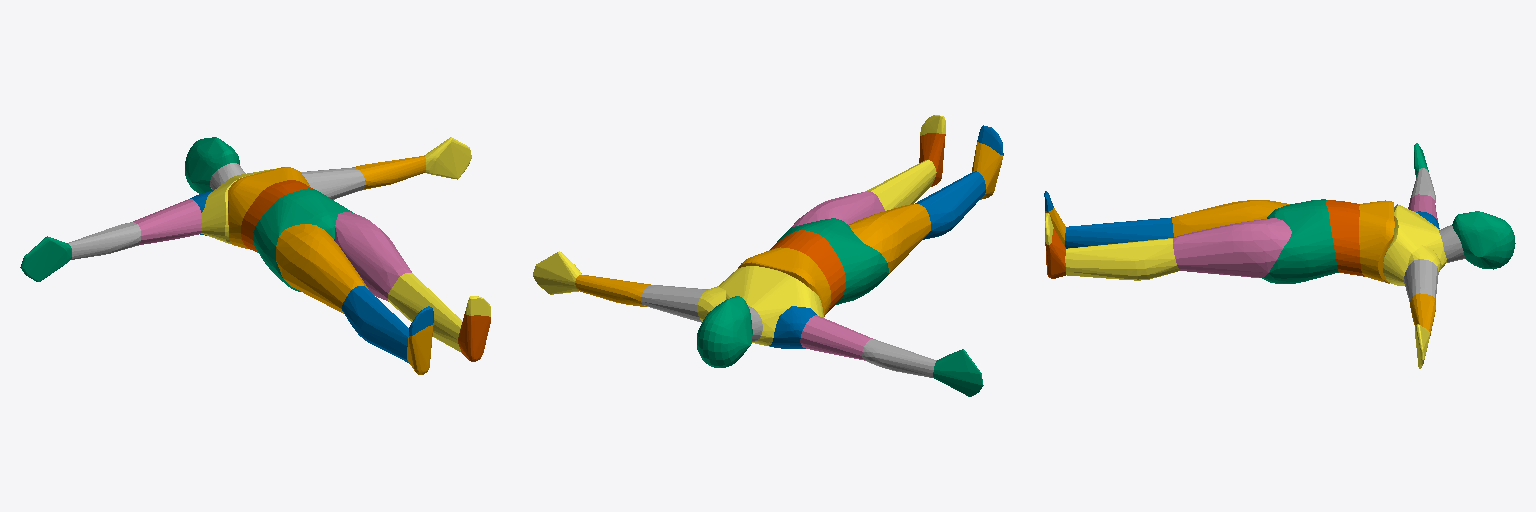
--- Render facts (derived) ---
3 views of the same robot in one strip: view 1: azimuth 30°, elevation 25°; view 2: azimuth 150°, elevation 25°; view 3: azimuth 270°, elevation 25° (orthographic).
Model Humanoid with 59 links and 58 joints (51 revolute, 7 fixed), rooted at root, posed all joints at 0.
Visible links, largest first — view 1: right_UpLeg, left_UpLeg, hip_rx, right_leg_rx, left_leg_rx, spine1_rx, right_arm, head, right_fore_arm_rx, right_hand, left_fore_arm_rx, left_hand (+5 smaller); view 2: spine2_rx, hip_rx, right_UpLeg, head, right_leg_rx, spine1_rx, spine_rx, right_arm, left_leg_rx, left_UpLeg, right_fore_arm_rx, left_arm (+7 smaller); view 3: left_UpLeg, hip_rx, left_leg_rx, head, spine2_rx, spine1_rx, right_leg_rx, right_UpLeg, spine_rx, left_arm, left_fore_arm_rx, left_foot (+1 smaller).
Boxes of the visible links, bbox=[...] form: right_UpLeg: bbox=[276, 224, 368, 313]; left_UpLeg: bbox=[334, 212, 411, 301]; hip_rx: bbox=[253, 188, 354, 291]; right_leg_rx: bbox=[342, 286, 409, 363]; left_leg_rx: bbox=[387, 273, 462, 352]; spine1_rx: bbox=[228, 167, 309, 248]; right_arm: bbox=[133, 199, 201, 244]; head: bbox=[185, 137, 239, 193]; right_fore_arm_rx: bbox=[68, 222, 140, 259]; right_hand: bbox=[20, 236, 71, 281]; left_fore_arm_rx: bbox=[353, 156, 425, 190]; left_hand: bbox=[424, 137, 471, 179]; spine2_rx: bbox=[719, 266, 823, 346]; hip_rx: bbox=[775, 218, 888, 304]; right_UpLeg: bbox=[849, 204, 930, 274]; head: bbox=[697, 296, 752, 367]; right_leg_rx: bbox=[915, 171, 985, 239]; spine1_rx: bbox=[738, 247, 830, 316]; spine_rx: bbox=[770, 230, 845, 312]; right_arm: bbox=[800, 315, 872, 360]; left_leg_rx: bbox=[865, 160, 936, 210]; left_UpLeg: bbox=[792, 191, 884, 226]; right_fore_arm_rx: bbox=[862, 339, 936, 377]; left_arm: bbox=[641, 285, 707, 322]; left_UpLeg: bbox=[1173, 218, 1291, 277]; hip_rx: bbox=[1262, 199, 1338, 283]; left_leg_rx: bbox=[1065, 238, 1179, 280]; head: bbox=[1452, 211, 1515, 269]; spine2_rx: bbox=[1383, 204, 1446, 285]; spine1_rx: bbox=[1359, 200, 1394, 283]; right_leg_rx: bbox=[1065, 217, 1173, 248]; right_UpLeg: bbox=[1172, 200, 1289, 236]; spine_rx: bbox=[1326, 200, 1364, 276]; left_arm: bbox=[1404, 259, 1438, 301]; left_fore_arm_rx: bbox=[1410, 293, 1435, 335]; left_foot: bbox=[1045, 229, 1065, 278].
Bounding box of the posed robot: 1.75 × 1.72 × 0.2905 m (x, y, z).
22 mesh visuals loaded from 22 distinct referenced files (22 OBJ).

robot.urdf — Humanoid:
<?xml version="1.0"?>
<robot name="Humanoid">
    <link name="root">
		
	</link>

    <link name="assist_link1">
        
    </link>

    <joint name="0" type="fixed">
        <origin xyz="0 0 0" rpy="0.0 0.0 0.0"/>
        <parent link="root"/>
        <child link="assist_link1"/>
        <axis xyz="0.0 0.0 0.0"/>
        <limit lower="0.0" upper="0.0" effort="0.0" velocity="0.0"/>
    </joint>

    <joint name="assist_jointA1" type="fixed">
        <origin xyz="0.0 0.0 0.0" rpy="0.0 0.0 0.0"/>
        <parent link="assist_link1"/>
        <child link="hip_rx"/>
        <axis xyz="0.0 0.0 0.0"/>
        <limit lower="0.0" upper="0.0" effort="0.0" velocity="0.0"/>
    </joint>

    <link name="hip_rx">
        <inertial>
            <origin xyz="0.00057561 -0.00681268 -0.01696218" rpy="0.0 0.0 0.0"/>
            <mass value="0.0"/>
            <inertia ixx="0.0" ixy="0.0" ixz="0.0" iyy="0.0" iyz="0.0" izz="0.0"/>
        </inertial>
        <visual>
            <origin xyz="0.00057561 -0.00681268 -0.01696218" rpy="0.0 0.0 0.0"/>
            <geometry>
                <mesh filename="package://Humanoid/meshes/body_parts_hips.obj" />
            </geometry>
        </visual>
        <collision>
            <origin xyz="0.00057561 -0.00681268 -0.01696218" rpy="0.0 0.0 0.0"/>
            <geometry>
                <mesh filename="package://Humanoid/meshes/body_parts_hips.obj" />
            </geometry>
        </collision>
    </link>

    <joint name="assist_jointA2" type="fixed">
        <origin xyz="0.0 0.0 0.0" rpy="0.0 0.0 0.0"/>
        <parent link="assist_link1"/>
        <child link="temp1_rx"/>
        <axis xyz="0.0 0.0 0.0"/>
        <limit lower="0.0" upper="0.0" effort="0.0" velocity="0.0"/>
    </joint>

    <joint name="assist_jointA3" type="fixed">
        <origin xyz="0.0 0.0 0.0" rpy="0.0 0.0 0.0"/>
        <parent link="assist_link1"/>
        <child link="temp2_rx"/>
    </joint>

    <link name="temp2_rx">
        
    </link>

    <joint name="2_rx" type="revolute">
        <origin xyz="0.06951974 -0.09140623 -0.00681533" rpy="0.0 0.0 0.0"/>
        <parent link="temp2_rx"/>
        <child link="temp2_ry"/>
        <axis xyz="1.0 0.0 0.0"/>
        <limit lower="-2.5" upper="1.4" effort="1000.0" velocity="0.5"/>
    </joint>

    <link name="temp2_ry">
        
    </link>

    <joint name="2_ry" type="revolute">
        <origin xyz="0 0 0" rpy="0.0 0.0 0.0"/>
        <parent link="temp2_ry"/>
        <child link="temp2_rz"/>
        <axis xyz="0.0 1.0 0.0"/>
        <limit lower="-2.5" upper="1.4" effort="1000.0" velocity="0.5"/>
    </joint>

    <link name="temp2_rz">
        
    </link>

    <joint name="2_rz" type="revolute">
        <origin xyz="0 0 0" rpy="0.0 0.0 0.0"/>
        <parent link="temp2_rz"/>
        <child link="left_UpLeg"/>
        <axis xyz="0.0 0.0 1.0"/>
        <limit lower="-2.5" upper="1.4" effort="1000.0" velocity="0.5"/>
    </joint>

    <link name="left_UpLeg">
        <inertial>
            <origin xyz="0.02136212 -0.15149257 0.00267958" rpy="0.0 0.0 0.0"/>
            <mass value="0.0"/>
            <inertia ixx="0.0" ixy="0.0" ixz="0.0" iyy="0.0" iyz="0.0" izz="0.0"/>
        </inertial>
        <visual>
            <origin xyz="0.02136212  -0.15149257  0.00267958" rpy="0.0 0.0 0.0"/>
            <geometry>
                <mesh filename="package://Humanoid/meshes/body_parts_leftUpLeg.obj" />
            </geometry>
        </visual>
        <collision>
            <origin xyz="0.02136212 -0.15149257 0.00267958" rpy="0.0 0.0 0.0"/>
            <geometry>
                <mesh filename="package://Humanoid/meshes/body_parts_leftUpLeg.obj" />
            </geometry>
        </collision>
    </link>

    <link name="temp1_rx">
        
    </link>

    <link name="right_UpLeg">
        <inertial>
            <origin xyz="-0.02252603 -0.15352734 -0.00307775" rpy="0.0 0.0 0.0"/>
            <mass value="0.0"/>
            <inertia ixx="0.0" ixy="0.0" ixz="0.0" iyy="0.0" iyz="0.0" izz="0.0"/>
        </inertial>
        <visual>
            <origin xyz="-0.02252603 -0.15352734 -0.00307775" rpy="0.0 0.0 0.0"/>
            <geometry>
                <mesh filename="package://Humanoid/meshes/body_parts_rightUpLeg.obj" />
            </geometry>
        </visual>
        <collision>
            <origin xyz="-0.02252603 -0.15352734 -0.00307775" rpy="0.0 0.0 0.0"/>
            <geometry>
                <mesh filename="package://Humanoid/meshes/body_parts_rightUpLeg.obj" />
            </geometry>
        </collision>
    </link>

    <joint name="1_rx" type="revolute">
        <origin xyz="-0.06767048 -0.09052169 -0.00431982" rpy="0.0 0.0 0.0"/>
        <parent link="temp1_rx"/>
        <child link="temp1_ry"/>
        <axis xyz="1.0 0.0 0.0"/>
        <limit lower="-2.5" upper="1.4" effort="1000.0" velocity="0.5"/>
    </joint>

    <link name="temp1_ry">
        
    </link>

    <joint name="1_ry" type="revolute">
        <origin xyz="0 0 0" rpy="0.0 0.0 0.0"/>
        <parent link="temp1_ry"/>
        <child link="temp1_rz"/>
        <axis xyz="0.0 1.0 0.0"/>
        <limit lower="-2.5" upper="1.4" effort="1000.0" velocity="0.5"/>
    </joint>

    <link name="temp1_rz">
        
    </link>

    <joint name="1_rz" type="revolute">
        <origin xyz="0 0 0" rpy="0.0 0.0 0.0"/>
        <parent link="temp1_rz"/>
        <child link="right_UpLeg"/>
        <axis xyz="0.0 0.0 1.0"/>
        <limit lower="-2.5" upper="1.4" effort="1000.0" velocity="0.5"/>
    </joint>

    <link name="left_leg_rx">
        <inertial>
            <origin xyz="-0.00726278 -0.16462932 -0.0345356" rpy="0.0 0.0 0.0"/>
            <mass value="0.0"/>
            <inertia ixx="0.0" ixy="0.0" ixz="0.0" iyy="0.0" iyz="0.0" izz="0.0"/>
        </inertial>
        <visual>
            <origin xyz="-0.00726278 -0.16462932 -0.0345356" rpy="0.0 0.0 0.0"/>
            <geometry>
                <mesh filename="package://Humanoid/meshes/body_parts_leftLeg.obj" />
            </geometry>
        </visual>
        <collision>
            <origin xyz="-0.00726278 -0.16462932 -0.0345356" rpy="0.0 0.0 0.0"/>
            <geometry>
                <mesh filename="package://Humanoid/meshes/body_parts_leftLeg.obj" />
            </geometry>
        </collision>
    </link>

    <joint name="5" type="revolute">
        <origin xyz="0.03427655 -0.37519857 -0.00449581" rpy="0.0 0.0 0.0"/>
        <parent link="left_UpLeg"/>
        <child link="left_leg_rx"/>
        <axis xyz="1.0 0.0 0.0"/>
        <limit lower="-0.1" upper="2.5" effort="1000.0" velocity="0.5"/>
    </joint>

    <link name="right_leg_rx">
        <inertial>
            <origin xyz="0.01018021 -0.15886355 -0.03476419" rpy="0.0 0.0 0.0"/>
            <mass value="0.0"/>
            <inertia ixx="0.0" ixy="0.0" ixz="0.0" iyy="0.0" iyz="0.0" izz="0.0"/>
        </inertial>
        <visual>
            <origin xyz="0.01018021 -0.15886355 -0.03476419" rpy="0.0 0.0 0.0"/>
            <geometry>
                <mesh filename="package://Humanoid/meshes/body_parts_rightLeg.obj" />
            </geometry>
        </visual>
        <collision>
            <origin xyz="0.01018021 -0.15886355 -0.03476419" rpy="0.0 0.0 0.0"/>
            <geometry>
                <mesh filename="package://Humanoid/meshes/body_parts_rightLeg.obj" />
            </geometry>
        </collision>
    </link>

    <joint name="4" type="revolute">
        <origin xyz="-0.03829005 -0.382569 -0.00885003" rpy="0.0 0.0 0.0"/>
        <parent link="right_UpLeg"/>
        <child link="right_leg_rx"/>
        <axis xyz="1.0 0.0 0.0"/>
        <limit lower="-0.1" upper="2.5" effort="1000.0" velocity="0.5"/>
    </joint>

    <link name="left_foot">
        <inertial>
            <origin xyz="0.01451171 -0.03682505 0.03742239" rpy="0.0 0.0 0.0"/>
            <mass value="0.0"/>
            <inertia ixx="0.0" ixy="0.0" ixz="0.0" iyy="0.0" iyz="0.0" izz="0.0"/>
        </inertial>
        <visual>
            <origin xyz="0.01451171 -0.03682505 0.03742239" rpy="0.0 0.0 0.0"/>
            <geometry>
                <mesh filename="package://Humanoid/meshes/body_parts_leftFoot.obj" />
            </geometry>
        </visual>
        <collision>
            <origin xyz="0.01451171 -0.03682505 0.03742239" rpy="0.0 0.0 0.0"/>
            <geometry>
                <mesh filename="package://Humanoid/meshes/body_parts_leftFoot.obj" />
            </geometry>
        </collision>
    </link>

    <joint name="8_rx" type="revolute">
        <origin xyz="-0.0135957 -0.39796048 -0.04369333" rpy="0.0 0.0 0.0"/>
        <parent link="left_leg_rx"/>
        <child link="left_leg_ry"/>
        <axis xyz="1.0 0.0 0.0"/>
        <limit lower="-0.4" upper="0.7" effort="1000.0" velocity="0.5"/>
    </joint>

    <link name="left_leg_ry">
        
    </link>

    <joint name="8_ry" type="revolute">
        <origin xyz="0 0 0" rpy="0.0 0.0 0.0"/>
        <parent link="left_leg_ry"/>
        <child link="left_leg_rz"/>
        <axis xyz="0.0 1.0 0.0"/>
        <limit lower="-0.4" upper="0.7" effort="1000.0" velocity="0.5"/>
    </joint>

    <link name="left_leg_rz">
        
    </link>

    <joint name="8_rz" type="revolute">
        <origin xyz="0 0 0" rpy="0.0 0.0 0.0"/>
        <parent link="left_leg_rz"/>
        <child link="left_foot"/>
        <axis xyz="0.0 0.0 1.0"/>
        <limit lower="-0.4" upper="0.7" effort="1000.0" velocity="0.5"/>
    </joint>

    <link name="right_foot">
        <inertial>
            <origin xyz="-0.01278681 -0.02989952 0.0397387" rpy="0.0 0.0 0.0"/>
            <mass value="0.0"/>
            <inertia ixx="0.0" ixy="0.0" ixz="0.0" iyy="0.0" iyz="0.0" izz="0.0"/>
        </inertial>
        <visual>
            <origin xyz="-0.01278681 -0.02989952 0.0397387" rpy="0.0 0.0 0.0"/>
            <geometry>
                <mesh filename="package://Humanoid/meshes/body_parts_rightFoot.obj" />
            </geometry>
        </visual>
        <collision>
            <origin xyz="-0.01278681 -0.02989952 0.0397387" rpy="0.0 0.0 0.0"/>
            <geometry>
                <mesh filename="package://Humanoid/meshes/body_parts_rightFoot.obj" />
            </geometry>
        </collision>
    </link>

    <joint name="7_rx" type="revolute">
        <origin xyz="0.01577377 -0.3984146 -0.0423118" rpy="0.0 0.0 0.0"/>
        <parent link="right_leg_rx"/>
        <child link="right_leg_ry"/>
        <axis xyz="1.0 0.0 0.0"/>
        <limit lower="-0.4" upper="0.7" effort="1000.0" velocity="0.5"/>
    </joint>

    <link name="right_leg_ry">
        
    </link>

    <joint name="7_ry" type="revolute">
        <origin xyz="0 0 0" rpy="0.0 0.0 0.0"/>
        <parent link="right_leg_ry"/>
        <child link="right_leg_rz"/>
        <axis xyz="0.0 1.0 0.0"/>
        <limit lower="-0.4" upper="0.7" effort="1000.0" velocity="0.5"/>
    </joint>

    <link name="right_leg_rz">
        
    </link>

    <joint name="7_rz" type="revolute">
        <origin xyz="0 0 0" rpy="0.0 0.0 0.0"/>
        <parent link="right_leg_rz"/>
        <child link="right_foot"/>
        <axis xyz="0.0 0.0 1.0"/>
        <limit lower="-0.4" upper="0.7" effort="1000.0" velocity="0.5"/>
    </joint>

    <link name="left_toe">
        <inertial>
            <origin xyz="-0.0072139 -0.00405795 0.02618084" rpy="0.0 0.0 0.0"/>
            <mass value="0.0"/>
            <inertia ixx="0.0" ixy="0.0" ixz="0.0" iyy="0.0" iyz="0.0" izz="0.0"/>
        </inertial>
        <visual>
            <origin xyz="-0.0072139 -0.00405795 0.02618084" rpy="0.0 0.0 0.0"/>
            <geometry>
                <mesh filename="package://Humanoid/meshes/body_parts_leftToeBase.obj" />
            </geometry>
        </visual>
        <collision>
            <origin xyz="-0.0072139 -0.00405795 0.02618084" rpy="0.0 0.0 0.0"/>
            <geometry>
                <mesh filename="package://Humanoid/meshes/body_parts_leftToeBase.obj" />
            </geometry>
        </collision>
    </link>

    <joint name="11" type="revolute">
        <origin xyz="0.02635814 -0.05579078 0.1192884" rpy="0.0 0.0 0.0"/>
        <parent link="left_foot"/>
        <child link="left_toe"/>
        <axis xyz="1.0 0.0 0.0"/>
        <limit lower="-0.4" upper="0.7" effort="1000.0" velocity="0.5"/>
    </joint>

    <link name="right_toe">
        <inertial>
            <origin xyz="0.00808544 -0.00602809 0.02469485" rpy="0.0 0.0 0.0"/>
            <mass value="0.0"/>
            <inertia ixx="0.0" ixy="0.0" ixz="0.0" iyy="0.0" iyz="0.0" izz="0.0"/>
        </inertial>
        <visual>
            <origin xyz="0.00808544 -0.00602809 0.02469485" rpy="0.0 0.0 0.0"/>
            <geometry>
                <mesh filename="package://Humanoid/meshes/body_parts_rightToeBase.obj" />
            </geometry>
        </visual>
        <collision>
            <origin xyz="0.00808544 -0.00602809 0.02469485" rpy="0.0 0.0 0.0"/>
            <geometry>
                <mesh filename="package://Humanoid/meshes/body_parts_rightToeBase.obj" />
            </geometry>
        </collision>
    </link>

    <joint name="10" type="revolute">
        <origin xyz="-0.02537176 -0.04814398 0.12334795" rpy="0.0 0.0 0.0"/>
        <parent link="right_foot"/>
        <child link="right_toe"/>
        <axis xyz="1.0 0.0 0.0"/>
        <limit lower="-0.4" upper="0.7" effort="1000.0" velocity="0.5"/>
    </joint>

    <link name="spine_rx">
        <inertial>
            <origin xyz="0.0029969 0.06265952 0.02763221" rpy="0.0 0.0 0.0"/>
            <mass value="0.0"/>
            <inertia ixx="0.0" ixy="0.0" ixz="0.0" iyy="0.0" iyz="0.0" izz="0.0"/>
        </inertial>
        <visual>
            <origin xyz="0.0029969 0.06265952 0.02763221" rpy="0.0 0.0 0.0"/>
            <geometry>
                <mesh filename="package://Humanoid/meshes/body_parts_spine.obj" />
            </geometry>
        </visual>
        <collision>
            <origin xyz="0.0029969 0.06265952 0.02763221" rpy="0.0 0.0 0.0"/>
            <geometry>
                <mesh filename="package://Humanoid/meshes/body_parts_spine.obj" />
            </geometry>
        </collision>
    </link>
    
    <joint name="3_rx" type="revolute">
        <origin xyz="-0.00253287 0.10896324 -0.02669631" rpy="0.0 0.0 0.0"/>
        <parent link="hip_rx"/>
        <child link="hip_ry"/>
        <axis xyz="1.0 0.0 0.0"/>
        <limit lower="-0.7" upper="0.7" effort="1000.0" velocity="0.5"/>
    </joint>

    <link name="hip_ry">
        
    </link>

    <joint name="3_ry" type="revolute">
        <origin xyz="0 0 0" rpy="0.0 0.0 0.0"/>
        <parent link="hip_ry"/>
        <child link="hip_rz"/>
        <axis xyz="0.0 1.0 0.0"/>
        <limit lower="-0.7" upper="0.7" effort="1000.0" velocity="0.5"/>
    </joint>

    <link name="hip_rz">
        
    </link>

    <joint name="3_rz" type="revolute">
        <origin xyz="0 0 0" rpy="0.0 0.0 0.0"/>
        <parent link="hip_rz"/>
        <child link="spine_rx"/>
        <axis xyz="0.0 1.0 0.0"/>
        <limit lower="-0.7" upper="0.7" effort="1000.0" velocity="0.5"/>
    </joint>

    <link name="spine1_rx">
        <inertial>
            <origin xyz="-0.00052418 0.02933144 0.02045965" rpy="0.0 0.0 0.0"/>
            <mass value="0.0"/>
            <inertia ixx="0.0" ixy="0.0" ixz="0.0" iyy="0.0" iyz="0.0" izz="0.0"/>
        </inertial>
        <visual>
            <origin xyz="-0.00052418 0.02933144 0.02045965" rpy="0.0 0.0 0.0"/>
            <geometry>
                <mesh filename="package://Humanoid/meshes/body_parts_spine1.obj" />
            </geometry>
        </visual>
        <collision>
            <origin xyz="-0.00052418 0.02933144 0.02045965" rpy="0.0 0.0 0.0"/>
            <geometry>
                <mesh filename="package://Humanoid/meshes/body_parts_spine1.obj" />
            </geometry>
        </collision>
    </link>

    <joint name="6_rx" type="revolute">
        <origin xyz="0.00548704 0.13518043 0.00109247" rpy="0.0 0.0 0.0"/>
        <parent link="spine_rx"/>
        <child link="spine_ry"/>
        <axis xyz="1.0 0.0 0.0"/>
        <limit lower="-0.7" upper="0.7" effort="1000.0" velocity="0.5"/>
    </joint>

    <link name="spine_ry">
        
    </link>

    <joint name="6_ry" type="revolute">
        <origin xyz="0 0 0" rpy="0.0 0.0 0.0"/>
        <parent link="spine_ry"/>
        <child link="spine_rz"/>
        <axis xyz="0.0 1.0 0.0"/>
        <limit lower="-0.7" upper="0.7" effort="1000.0" velocity="0.5"/>
    </joint>

    <link name="spine_rz">
        
    </link>

    <joint name="6_rz" type="revolute">
        <origin xyz="0 0 0" rpy="0.0 0.0 0.0"/>
        <parent link="spine_rz"/>
        <child link="spine1_rx"/>
        <axis xyz="0.0 0.0 1.0"/>
        <limit lower="-0.7" upper="0.7" effort="1000.0" velocity="0.5"/>
    </joint>

    <link name="spine2_rx">
        <inertial>
            <origin xyz="-0.0022121 0.09440039 -0.03596294" rpy="0.0 0.0 0.0"/>
            <mass value="0.0"/>
            <inertia ixx="0.0" ixy="0.0" ixz="0.0" iyy="0.0" iyz="0.0" izz="0.0"/>
        </inertial>
        <visual>
            <origin xyz="-0.0022121 0.09440039 -0.03596294" rpy="0.0 0.0 0.0"/>
            <geometry>
                <mesh filename="package://Humanoid/meshes/body_parts_spine2.obj" />
            </geometry>
        </visual>
        <collision>
            <origin xyz="-0.0022121 0.09440039 -0.03596294" rpy="0.0 0.0 0.0"/>
            <geometry>
                <mesh filename="package://Humanoid/meshes/body_parts_spine2.obj" />
            </geometry>
        </collision>
    </link>

    <link name="assist_link2">
        
    </link>

    <joint name="9_rx" type="revolute">
        <origin xyz="0.001457 0.05292223 0.02542457" rpy="0.0 0.0 0.0"/>
        <parent link="spine1_rx"/>
        <child link="spine1_ry"/>
        <axis xyz="1.0 0.0 0.0"/>
        <limit lower="-1.4" upper="1.4" effort="1000.0" velocity="0.5"/>
    </joint>

    <link name="spine1_ry">
        
    </link>

    <joint name="9_ry" type="revolute">
        <origin xyz="0 0 0" rpy="0.0 0.0 0.0"/>
        <parent link="spine1_ry"/>
        <child link="spine1_rz"/>
        <axis xyz="0.0 1.0 0.0"/>
        <limit lower="-1.4" upper="1.4" effort="1000.0" velocity="0.5"/>
    </joint>

    <link name="spine1_rz">
        
    </link>

    <joint name="9_rz" type="revolute">
        <origin xyz="0 0 0" rpy="0.0 0.0 0.0"/>
        <parent link="spine1_rz"/>
        <child link="assist_link2"/>
        <axis xyz="0.0 0.0 1.0"/>
        <limit lower="-1.4" upper="1.4" effort="1000.0" velocity="0.5"/>
    </joint>

    <joint name="assist_B1" type="fixed">
        <origin xyz="0.0 0.0 0.0" rpy="0.0 0.0 0.0"/>
        <parent link="assist_link2"/>
        <child link="temp14_rx"/>
        <axis xyz="0.0 0.0 0.0"/>
        <limit lower="0.0" upper="0.0" effort="0.0" velocity="0.0"/>
    </joint>

     <joint name="assist_B2" type="fixed">
        <origin xyz="0.0 0.0 0.0" rpy="0.0 0.0 0.0"/>
        <parent link="assist_link2"/>
        <child link="spine2_rx"/>
        <axis xyz="0.0 0.0 0.0"/>
        <limit lower="0.0" upper="0.0" effort="0.0" velocity="0.0"/>
    </joint>

     <joint name="assist_B3" type="fixed">
        <origin xyz="0.0 0.0 0.0" rpy="0.0 0.0 0.0"/>
        <parent link="assist_link2"/>
        <child link="temp13_rx"/>
        <axis xyz="0.0 0.0 0.0"/>
        <limit lower="0.0" upper="0.0" effort="0.0" velocity="0.0"/>
    </joint>
    

    <link name="neck_rx">
        <inertial>
            <origin xyz="0.00058504 0.03762274 0.01938053" rpy="0.0 0.0 0.0"/>
            <mass value="0.0"/>
            <inertia ixx="0.0" ixy="0.0" ixz="0.0" iyy="0.0" iyz="0.0" izz="0.0"/>
        </inertial>
        <visual>
            <origin xyz="0.00058504 0.03762274 0.01938053" rpy="0.0 0.0 0.0"/>
            <geometry>
                <mesh filename="package://Humanoid/meshes/body_parts_neck.obj" />
            </geometry>
        </visual>
        <collision>
            <origin xyz="0.00058504 0.03762274 0.01938053" rpy="0.0 0.0 0.0"/>
            <geometry>
                <mesh filename="package://Humanoid/meshes/body_parts_neck.obj" />
            </geometry>
        </collision>
    </link>

    <joint name="12_rx" type="revolute">
        <origin xyz="-0.00277839 0.21387038 -0.04285703" rpy="0.0 0.0 0.0"/>
        <parent link="spine2_rx"/>
        <child link="spine2_ry"/>
        <axis xyz="1.0 0.0 0.0"/>
        <limit lower="-0.6" upper="0.6" effort="1000.0" velocity="0.5"/>
    </joint>

    <link name="spine2_ry">
        
    </link>

    <joint name="12_ry" type="revolute">
        <origin xyz="0 0 0" rpy="0.0 0.0 0.0"/>
        <parent link="spine2_ry"/>
        <child link="spine2_rz"/>
        <axis xyz="0.0 1.0 0.0"/>
        <limit lower="-0.6" upper="0.6" effort="1000.0" velocity="0.5"/>
    </joint>

    <link name="spine2_rz">
        
    </link>

    <joint name="12_rz" type="revolute">
        <origin xyz="0 0 0" rpy="0.0 0.0 0.0"/>
        <parent link="spine2_rz"/>
        <child link="neck_rx"/>
        <axis xyz="0.0 0.0 1.0"/>
        <limit lower="-0.6" upper="0.6" effort="1000.0" velocity="0.5"/>
    </joint>

    <link name="head">
        <inertial>
            <origin xyz="-0.00434165 0.0912436 -0.0164248" rpy="0.0 0.0 0.0"/>
            <mass value="0.0"/>
            <inertia ixx="0.0" ixy="0.0" ixz="0.0" iyy="0.0" iyz="0.0" izz="0.0"/>
        </inertial>
        <visual>
            <origin xyz="-0.00434165 0.0912436 -0.0164248" rpy="0.0 0.0 0.0"/>
            <geometry>
                <mesh filename="package://Humanoid/meshes/body_parts_head.obj" />
            </geometry>
        </visual>
        <collision>
            <origin xyz="-0.00434165 0.0912436 -0.0164248" rpy="0.0 0.0 0.0"/>
            <geometry>
                <mesh filename="package://Humanoid/meshes/body_parts_head.obj" />
            </geometry>
        </collision>
    </link>

    <joint name="15_rx" type="revolute">
        <origin xyz="0.00515184 0.06496963 0.05134897" rpy="0.0 0.0 0.0"/>
        <parent link="neck_rx"/>
        <child link="neck_ry"/>
        <axis xyz="1.0 0.0 0.0"/>
        <limit lower="-0.6" upper="0.6" effort="1000.0" velocity="0.5"/>
    </joint>

    <link name="neck_ry">
        
    </link>

    <joint name="15_ry" type="revolute">
        <origin xyz="0 0 0" rpy="0.0 0.0 0.0"/>
        <parent link="neck_ry"/>
        <child link="neck_rz"/>
        <axis xyz="0.0 1.0 0.0"/>
        <limit lower="-0.6" upper="0.6" effort="1000.0" velocity="0.5"/>
    </joint>

    <link name="neck_rz">
        
    </link>

    <joint name="15_rz" type="revolute">
        <origin xyz="0 0 0" rpy="0.0 0.0 0.0"/>
        <parent link="neck_rz"/>
        <child link="head"/>
        <axis xyz="0.0 0.0 1.0"/>
        <limit lower="-0.6" upper="0.6" effort="1000.0" velocity="0.5"/>
    </joint>

    <link name="temp14_rx">
        <inertial>
            <origin xyz="0.0 0.0 0.0" rpy="0.0 0.0 0.0"/>
            <mass value="0.0"/>
            <inertia ixx="0.0" ixy="0.0" ixz="0.0" iyy="0.0" iyz="0.0" izz="0.0"/>
        </inertial>
        <visual name="">
            <origin xyz="0.0 0.0 0.0" rpy="0.0 0.0 0.0"/>
            <geometry>
                <box size="0.0 0.0 0.0"/>
            </geometry>
            <material name="">
                <color rgba="1.0 0.0 0.0 1.0"/>
                <texture filename=""/>
            </material>
        </visual>
        <collision>
            <origin xyz="0.0 0.0 0.0" rpy="0.0 0.0 0.0"/>
            <geometry>
                <box size="0.0 0.0 0.0"/>
            </geometry>
        </collision>
    </link>

    <joint name="14_rx" type="revolute">
        <origin xyz="0.07884474 0.12174932 -0.03408961" rpy="0.0 0.0 0.0"/>
        <parent link="temp14_rx"/>
        <child link="temp14_ry"/>
        <axis xyz="1.0 0.0 0.0"/>
        <limit lower="-1.0" upper="1.0" effort="1000.0" velocity="0.5"/>
    </joint>

    <link name="temp14_ry">
        
    </link>

    <joint name="14_ry" type="revolute">
        <origin xyz="0 0 0" rpy="0.0 0.0 0.0"/>
        <parent link="temp14_ry"/>
        <child link="temp14_rz"/>
        <axis xyz="0.0 1.0 0.0"/>
        <limit lower="-1.0" upper="1.0" effort="1000.0" velocity="0.5"/>
    </joint>

    <link name="temp14_rz">
        
    </link>

    <joint name="14_rz" type="revolute">
        <origin xyz="0 0 0" rpy="0.0 0.0 0.0"/>
        <parent link="temp14_rz"/>
        <child link="left_shoulder_rx"/>
        <axis xyz="0.0 0.0 1.0"/>
        <limit lower="-1.0" upper="1.0" effort="1000.0" velocity="0.5"/>
    </joint>    

    <link name="temp13_rx">
        <inertial>
            <origin xyz="0.0 0.0 0.0" rpy="0.0 0.0 0.0"/>
            <mass value="0.0"/>
            <inertia ixx="0.0" ixy="0.0" ixz="0.0" iyy="0.0" iyz="0.0" izz="0.0"/>
        </inertial>
        <visual name="">
            <origin xyz="0.0 0.0 0.0" rpy="0.0 0.0 0.0"/>
            <geometry>
                <box size="0.0 0.0 0.0"/>
            </geometry>
            <material name="">
                <color rgba="1.0 0.0 0.0 1.0"/>
                <texture filename=""/>
            </material>
        </visual>
        <collision>
            <origin xyz="0.0 0.0 0.0" rpy="0.0 0.0 0.0"/>
            <geometry>
                <box size="0.0 0.0 0.0"/>
            </geometry>
        </collision>
    </link>

    <joint name="13_rx" type="revolute">
        <origin xyz="-0.08175919 0.11883285 -0.03861528" rpy="0.0 0.0 0.0"/>
        <parent link="temp13_rx"/>
        <child link="temp13_ry"/>
        <axis xyz="1.0 0.0 0.0"/>
        <limit lower="-1.0" upper="1.0" effort="1000.0" velocity="0.5"/>
    </joint>

    <link name="temp13_ry">
        
    </link>

    <joint name="13_ry" type="revolute">
        <origin xyz="0 0 0" rpy="0.0 0.0 0.0"/>
        <parent link="temp13_ry"/>
        <child link="temp13_rz"/>
        <axis xyz="0.0 1.0 0.0"/>
        <limit lower="-1.0" upper="1.0" effort="1000.0" velocity="0.5"/>
    </joint>    

    <link name="temp13_rz">
        
    </link>

    <joint name="13_rz" type="revolute">
        <origin xyz="0 0 0" rpy="0.0 0.0 0.0"/>
        <parent link="temp13_rz"/>
        <child link="right_shoulder_rx"/>
        <axis xyz="0.0 0.0 1.0"/>
        <limit lower="-1.0" upper="1.0" effort="1000.0" velocity="0.5"/>
    </joint> 

    <link name="left_shoulder_rx">
        <inertial>
            <origin xyz="0.06559623 0.02613187 -0.02027318" rpy="0.0 0.0 0.0"/>
            <mass value="0.0"/>
            <inertia ixx="0.0" ixy="0.0" ixz="0.0" iyy="0.0" iyz="0.0" izz="0.0"/>
        </inertial>
        <visual>
            <origin xyz="0.06559623 0.02613187 -0.02027318" rpy="0.0 0.0 0.0"/>
            <geometry>
                <mesh filename="package://Humanoid/meshes/body_parts_leftShoulder.obj" />
            </geometry>
        </visual>
        <collision>
            <origin xyz="0.06559623 0.02613187 -0.02027318" rpy="0.0 0.0 0.0"/>
            <geometry>
                <mesh filename="package://Humanoid/meshes/body_parts_leftShoulder.obj" />
            </geometry>
        </collision>
    </link>

    <link name="right_shoulder_rx">
        <inertial>
            <origin xyz="-0.0667859 0.02682777 -0.01567558" rpy="0.0 0.0 0.0"/>
            <mass value="0.0"/>
            <inertia ixx="0.0" ixy="0.0" ixz="0.0" iyy="0.0" iyz="0.0" izz="0.0"/>
        </inertial>
        <visual>
            <origin xyz="-0.0667859 0.02682777 -0.01567558" rpy="0.0 0.0 0.0"/>
            <geometry>
                <mesh filename="package://Humanoid/meshes/body_parts_rightShoulder.obj" />
            </geometry>
        </visual>
        <collision>
            <origin xyz="-0.0667859 0.02682777 -0.01567558" rpy="0.0 0.0 0.0"/>
            <geometry>
                <mesh filename="package://Humanoid/meshes/body_parts_rightShoulder.obj" />
            </geometry>
        </collision>
    </link>

    <joint name="17_rx" type="revolute">
        <origin xyz="0.09097692 0.03046888 -0.00886815" rpy="0.0 0.0 0.0"/>
        <parent link="left_shoulder_rx"/>
        <child link="left_shoulder_ry"/>
        <axis xyz="1.0 0.0 0.0"/>
        <limit lower="-1.4" upper="0.9" effort="1000.0" velocity="0.5"/>
    </joint>

    <link name="left_shoulder_ry">
        
    </link>

    <joint name="17_ry" type="revolute">
        <origin xyz="0 0 0" rpy="0.0 0.0 0.0"/>
        <parent link="left_shoulder_ry"/>
        <child link="left_shoulder_rz"/>
        <axis xyz="0.0 1.0 0.0"/>
        <limit lower="-1.4" upper="0.9" effort="1000.0" velocity="0.5"/>
    </joint>

    <link name="left_shoulder_rz">
        
    </link>

    <joint name="17_rz" type="revolute">
        <origin xyz="0 0 0" rpy="0.0 0.0 0.0"/>
        <parent link="left_shoulder_rz"/>
        <child link="left_arm"/>
        <axis xyz="0.0 0.0 1.0"/>
        <limit lower="-1.4" upper="0.9" effort="1000.0" velocity="0.5"/>
    </joint>

    <link name="left_arm">
        <inertial>
            <origin xyz="0.12948829 -0.01228957 -0.0090026" rpy="0.0 0.0 0.0"/>
            <mass value="0.0"/>
            <inertia ixx="0.0" ixy="0.0" ixz="0.0" iyy="0.0" iyz="0.0" izz="0.0"/>
        </inertial>
        <visual>
            <origin xyz="0.12948829 -0.01228957 -0.0090026" rpy="0.0 0.0 0.0"/>
            <geometry>
                <mesh filename="package://Humanoid/meshes/body_parts_leftArm.obj" />
            </geometry>
        </visual>
        <collision>
            <origin xyz="0.12948829 -0.01228957 -0.0090026" rpy="0.0 0.0 0.0"/>
            <geometry>
                <mesh filename="package://Humanoid/meshes/body_parts_leftArm.obj" />
            </geometry>
        </collision>
    </link>

    <joint name="19" type="revolute">
        <origin xyz="0.2596122 -0.01277207 -0.02745643" rpy="0.0 0.0 0.0"/>
        <parent link="left_arm"/>
        <child link="left_fore_arm_rx"/>
        <axis xyz="0.0 1.0 0.0"/>
        <limit lower="0.0" upper="0.9" effort="1000.0" velocity="0.5"/>
    </joint>

    <link name="left_fore_arm_rx">
        <inertial>
            <origin xyz="0.10665728 0.00690599 0.00605961" rpy="0.0 0.0 0.0"/>
            <mass value="0.0"/>
            <inertia ixx="0.0" ixy="0.0" ixz="0.0" iyy="0.0" iyz="0.0" izz="0.0"/>
        </inertial>
        <visual>
            <origin xyz="0.10665728 0.00690599 0.00605961" rpy="0.0 0.0 0.0"/>
            <geometry>
                <mesh filename="package://Humanoid/meshes/body_parts_leftForeArm.obj" />
            </geometry>
        </visual>
        <collision>
            <origin xyz="0.10665728 0.00690599 0.00605961" rpy="0.0 0.0 0.0"/>
            <geometry>
                <mesh filename="package://Humanoid/meshes/body_parts_leftForeArm.obj" />
            </geometry>
        </collision>
    </link>

    <joint name="21_rx" type="revolute">
        <origin xyz="0.2492336 0.00898604 -0.00117092" rpy="0.0 0.0 0.0"/>
        <parent link="left_fore_arm_rx"/>
        <child link="left_fore_arm_ry"/>
        <axis xyz="1.0 0.0 0.0"/>
        <limit lower="-1.4" upper="0.6" effort="1000.0" velocity="0.5"/>
    </joint>

    <link name="left_fore_arm_ry">
        
    </link>

    <joint name="21_ry" type="revolute">
        <origin xyz="0 0 0" rpy="0.0 0.0 0.0"/>
        <parent link="left_fore_arm_ry"/>
        <child link="left_fore_arm_rz"/>
        <axis xyz="0.0 1.0 0.0"/>
        <limit lower="-1.4" upper="0.6" effort="1000.0" velocity="0.5"/>
    </joint>

    <link name="left_fore_arm_rz">
        
    </link>

    <joint name="21_rz" type="revolute">
        <origin xyz="0 0 0" rpy="0.0 0.0 0.0"/>
        <parent link="left_fore_arm_rz"/>
        <child link="left_hand"/>
        <axis xyz="0.0 0.0 1.0"/>
        <limit lower="-1.4" upper="0.6" effort="1000.0" velocity="0.5"/>
    </joint>

    <link name="left_hand">
        <inertial>
            <origin xyz="0.08488861 -0.00938576 0.00616219" rpy="0.0 0.0 0.0"/>
            <mass value="0.0"/>
            <inertia ixx="0.0" ixy="0.0" ixz="0.0" iyy="0.0" iyz="0.0" izz="0.0"/>
        </inertial>
        <visual>
            <origin xyz="0.08488861 -0.00938576 0.00616219" rpy="0.0 0.0 0.0"/>
            <geometry>
                <mesh filename="package://Humanoid/meshes/body_parts_leftHand.obj" />
            </geometry>
        </visual>
        <collision>
            <origin xyz="0.08488861 -0.00938576 0.00616219" rpy="0.0 0.0 0.0"/>
            <geometry>
                <mesh filename="package://Humanoid/meshes/body_parts_leftHand.obj" />
            </geometry>
        </collision>
    </link>

    <joint name="16_rx" type="revolute">
        <origin xyz="-0.09601238 0.03255117 -0.00914307" rpy="0.0 0.0 0.0"/>
        <parent link="right_shoulder_rx"/>
        <child link="right_shoulder_ry"/>
        <axis xyz="1.0 0.0 0.0"/>
        <limit lower="-1.4" upper="0.9" effort="1000.0" velocity="0.5"/>
    </joint>

    <link name="right_shoulder_ry">
        
    </link>

    <joint name="16_ry" type="revolute">
        <origin xyz="0 0 0" rpy="0.0 0.0 0.0"/>
        <parent link="right_shoulder_ry"/>
        <child link="right_shoulder_rz"/>
        <axis xyz="0.0 1.0 0.0"/>
        <limit lower="-1.4" upper="0.9" effort="1000.0" velocity="0.5"/>
    </joint>

    <link name="right_shoulder_rz">
        
    </link>

    <joint name="16_rz" type="revolute">
        <origin xyz="0 0 0" rpy="0.0 0.0 0.0"/>
        <parent link="right_shoulder_rz"/>
        <child link="right_arm"/>
        <axis xyz="0.0 0.0 1.0"/>
        <limit lower="-1.4" upper="0.9" effort="1000.0" velocity="0.5"/>
    </joint>

    <link name="right_arm">
        <inertial>
            <origin xyz="-0.12550239 -0.01296561 -0.00590812" rpy="0.0 0.0 0.0"/>
            <mass value="0.0"/>
            <inertia ixx="0.0" ixy="0.0" ixz="0.0" iyy="0.0" iyz="0.0" izz="0.0"/>
        </inertial>
        <visual>
            <origin xyz="-0.12550239 -0.01296561 -0.00590812" rpy="0.0 0.0 0.0"/>
            <geometry>
                <mesh filename="package://Humanoid/meshes/body_parts_rightArm.obj" />
            </geometry>
        </visual>
        <collision>
            <origin xyz="-0.12550239 -0.01296561 -0.00590812" rpy="0.0 0.0 0.0"/>
            <geometry>
                <mesh filename="package://Humanoid/meshes/body_parts_rightArm.obj" />
            </geometry>
        </collision>
    </link>

    <joint name="18" type="revolute">
        <origin xyz="-0.25374195 -0.01332924 -0.02140098" rpy="0.0 0.0 0.0"/>
        <parent link="right_arm"/>
        <child link="right_fore_arm_rx"/>
        <axis xyz="0.0 1.0 0.0"/>
        <limit lower="0.0" upper="0.9" effort="1000.0" velocity="0.5"/>
    </joint>

    <link name="right_fore_arm_rx">
        <inertial>
            <origin xyz="-0.10992141 0.00679169 0.00313351" rpy="0.0 0.0 0.0"/>
            <mass value="0.0"/>
            <inertia ixx="0.0" ixy="0.0" ixz="0.0" iyy="0.0" iyz="0.0" izz="0.0"/>
        </inertial>
        <visual>
            <origin xyz="-0.10992141 0.00679169 0.00313351" rpy="0.0 0.0 0.0"/>
            <geometry>
                <mesh filename="package://Humanoid/meshes/body_parts_rightForeArm.obj" />
            </geometry>
        </visual>
        <collision>
            <origin xyz="-0.10992141 0.00679169 0.00313351" rpy="0.0 0.0 0.0"/>
            <geometry>
                <mesh filename="package://Humanoid/meshes/body_parts_rightForeArm.obj" />
            </geometry>
        </collision>
    </link>

    <joint name="20_rx" type="revolute">
        <origin xyz="-0.2552981 0.0077723 -0.0055592" rpy="0.0 0.0 0.0"/>
        <parent link="right_fore_arm_rx"/>
        <child link="right_fore_arm_ry"/>
        <axis xyz="1.0 0.0 0.0"/>
        <limit lower="-1.4" upper="0.6" effort="1000.0" velocity="0.5"/>
    </joint>

    <link name="right_fore_arm_ry">
        
    </link>

    <joint name="20_ry" type="revolute">
        <origin xyz="0 0 0" rpy="0.0 0.0 0.0"/>
        <parent link="right_fore_arm_ry"/>
        <child link="right_fore_arm_rz"/>
        <axis xyz="0.0 1.0 0.0"/>
        <limit lower="-1.4" upper="0.6" effort="1000.0" velocity="0.5"/>
    </joint>

    <link name="right_fore_arm_rz">
        
    </link>

    <joint name="20_rz" type="revolute">
        <origin xyz="0 0 0" rpy="0.0 0.0 0.0"/>
        <parent link="right_fore_arm_rz"/>
        <child link="right_hand"/>
        <axis xyz="0.0 0.0 1.0"/>
        <limit lower="-1.4" upper="0.6" effort="1000.0" velocity="0.5"/>
    </joint>

    <link name="right_hand">
        <inertial>
            <origin xyz="-0.08138476 -0.00979895 0.0080402" rpy="0.0 0.0 0.0"/>
            <mass value="0.0"/>
            <inertia ixx="0.0" ixy="0.0" ixz="0.0" iyy="0.0" iyz="0.0" izz="0.0"/>
        </inertial>
        <visual>
            <origin xyz="-0.08138476 -0.00979895 0.0080402" rpy="0.0 0.0 0.0"/>
            <geometry>
                <mesh filename="package://Humanoid/meshes/body_parts_rightHand.obj" />
            </geometry>
        </visual>
        <collision>
            <origin xyz="-0.08138476 -0.00979895 0.0080402" rpy="0.0 0.0 0.0"/>
            <geometry>
                <mesh filename="package://Humanoid/meshes/body_parts_rightHand.obj" />
            </geometry>
        </collision>
    </link>

</robot>
